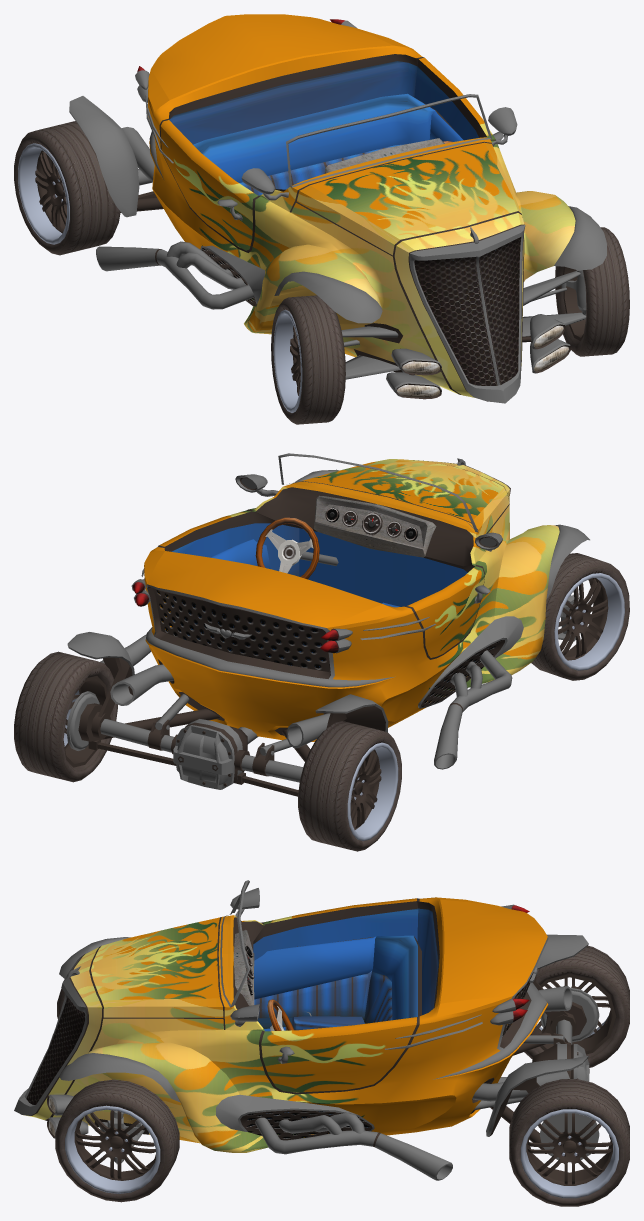
Rendered from Car001.glb.
3 renders of one model, top to bottom at view 1: azimuth 30°, elevation 25°; view 2: azimuth 150°, elevation 25°; view 3: azimuth 270°, elevation 25°, orthographic. The views are drawn at different scales.
Visible parts, largest first — view 1: node_id112, node_id120, node_id116, node_id108, node_id118, node_id96, node_id103, node_id51, node_id82, node_id32, node_id92, node_id105 (+11 smaller); view 2: node_id112, node_id120, node_id110, node_id118, node_id108, node_id89, node_id96, node_id51, node_id99, node_id114, node_id58, node_id92 (+14 smaller); view 3: node_id112, node_id120, node_id108, node_id51, node_id85, node_id118, node_id78, node_id89, node_id82, node_id37, node_id32, node_id116 (+14 smaller).
Part boxes in pixels (box(x1,y1,x2,y2)): node_id112: box(148, 14, 575, 397); node_id120: box(169, 61, 478, 264); node_id116: box(414, 237, 521, 385); node_id108: box(145, 95, 607, 403); node_id118: box(159, 54, 524, 401); node_id96: box(20, 121, 120, 255); node_id103: box(280, 295, 345, 424); node_id51: box(96, 127, 254, 309); node_id82: box(571, 227, 629, 356); node_id32: box(69, 96, 152, 217); node_id92: box(18, 143, 69, 244); node_id105: box(341, 270, 586, 379); node_id112: box(144, 459, 559, 741); node_id120: box(171, 523, 494, 695); node_id110: box(152, 588, 504, 706); node_id118: box(147, 460, 510, 735); node_id108: box(141, 469, 589, 708); node_id89: box(14, 651, 111, 782); node_id96: box(298, 721, 395, 851); node_id51: box(100, 634, 512, 769); node_id99: box(554, 573, 624, 670); node_id114: box(314, 495, 436, 557); node_id58: box(173, 719, 258, 789); node_id92: box(347, 742, 398, 841); node_id112: box(23, 897, 548, 1152); node_id120: box(248, 908, 438, 1127); node_id108: box(14, 937, 548, 1131); node_id51: box(251, 985, 572, 1180); node_id85: box(520, 1109, 618, 1198); node_id118: box(22, 898, 531, 1134); node_id78: box(65, 1105, 160, 1193); node_id89: box(509, 1079, 629, 1206); node_id82: box(55, 1079, 179, 1202); node_id37: box(474, 1056, 599, 1162); node_id32: box(523, 934, 599, 1044); node_id116: box(26, 996, 85, 1104).
Size of the model in its own units: 0.512 by 0.2938 by 0.7707.
44 materials, 44 textured.
